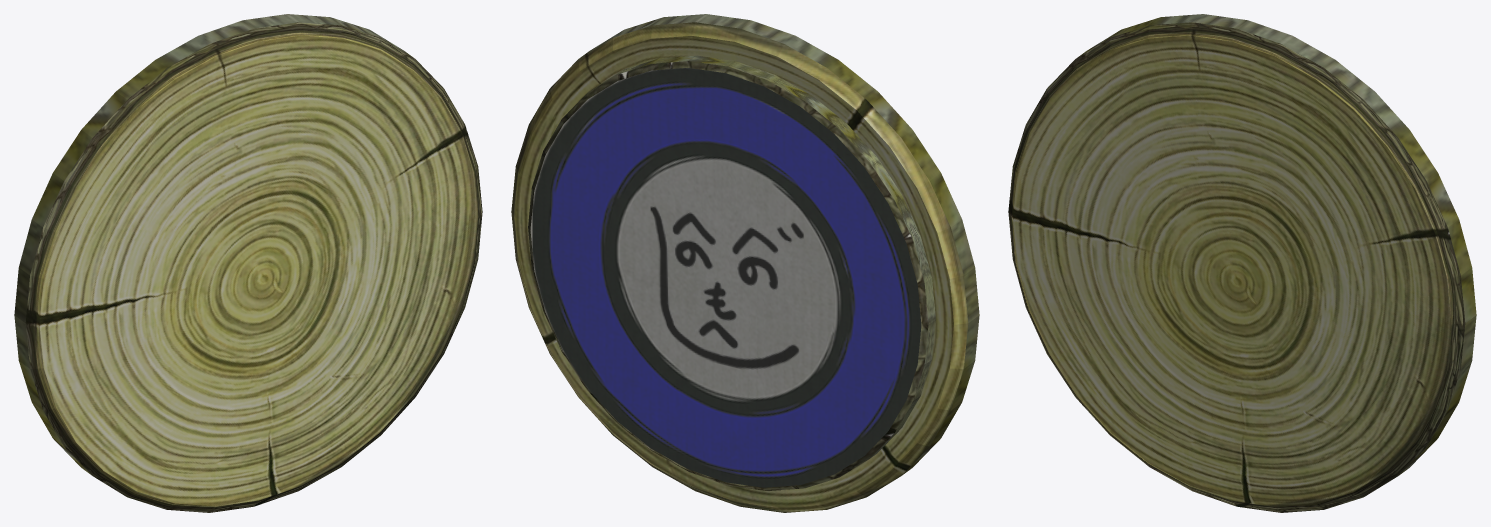
Rendered from ShootingTarget3.fbx.
The picture shows the model from 3 angles, left to right: view 1: azimuth 30°, elevation 25°; view 2: azimuth 150°, elevation 25°; view 3: azimuth 330°, elevation 25°; orthographic projection.
Parts seen in each view (by area): view 1: Cylinder.002; view 2: Cylinder.002; view 3: Cylinder.002.
Boxes of the visible parts, x1,y1,x2,y2 form: Cylinder.002: [14, 14, 482, 512]; Cylinder.002: [511, 14, 979, 512]; Cylinder.002: [1008, 14, 1476, 512].
Size of the model in its own units: 47.32 by 47.32 by 5.35.
Materials: 1 (1 with a texture image).
